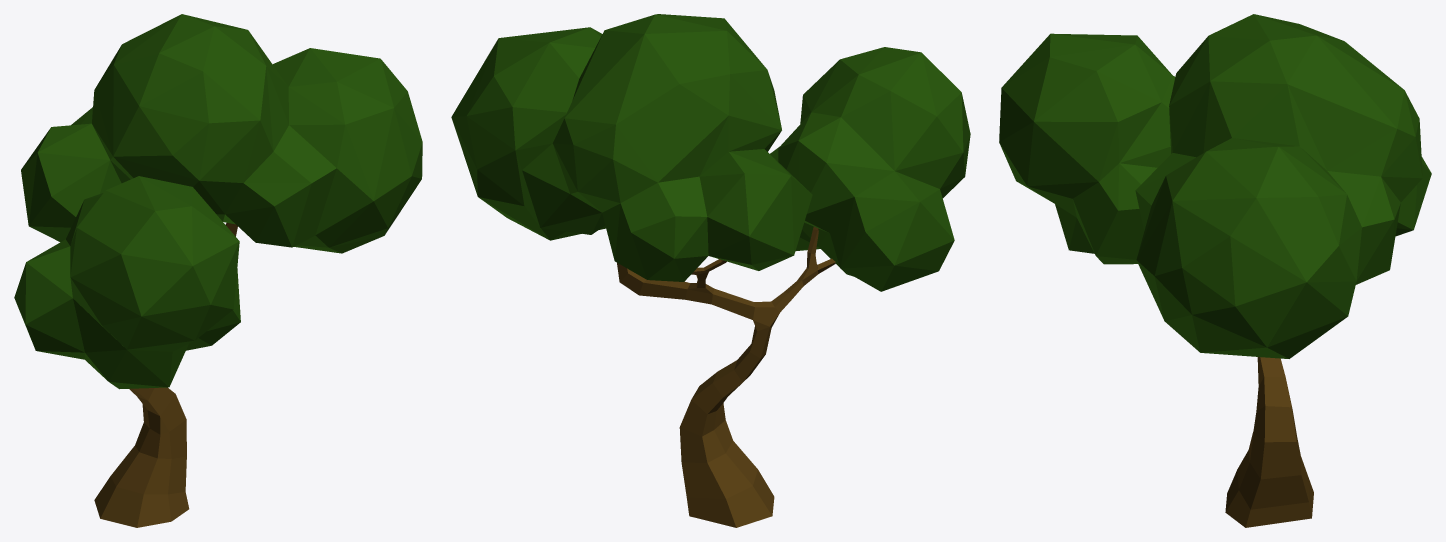
Rendered from tree3.obj.
The picture shows the model from 3 angles, left to right: view 1: azimuth 30°, elevation 25°; view 2: azimuth 150°, elevation 25°; view 3: azimuth 270°, elevation 25°; orthographic projection. The views are drawn at different scales.
Parts seen in each view (by area): view 1: polySurface14; view 2: polySurface14; view 3: polySurface14.
Boxes of the visible parts, <box> form: polySurface14: <box>14,14,422,527</box>; polySurface14: <box>451,14,970,527</box>; polySurface14: <box>999,14,1431,527</box>.
Size of the model in its own units: 4.16 by 4.3 by 3.33.
Materials: 1 (1 with a texture image).
